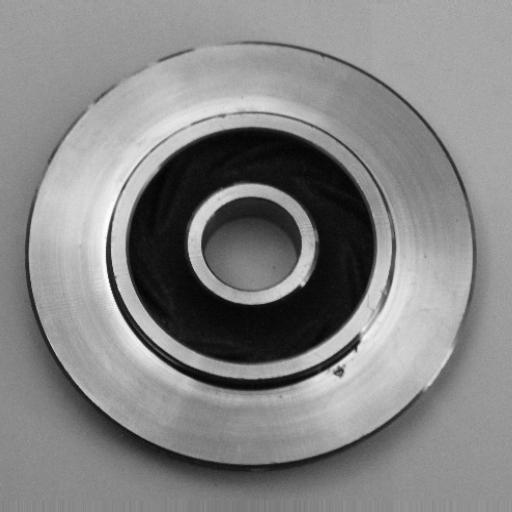crack: (322, 352, 358, 391)
scratch: (355, 278, 406, 365)
unpolished_casting: (23, 41, 480, 475)
